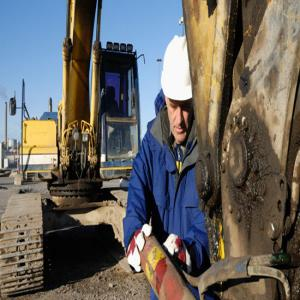white: (162, 35, 195, 146)
